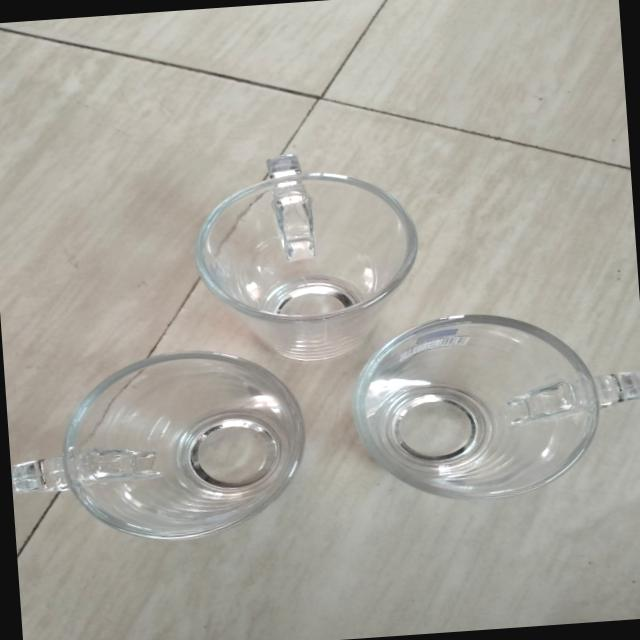glass-VX4N: (2, 340, 313, 552), (348, 300, 640, 509), (188, 141, 426, 366)
